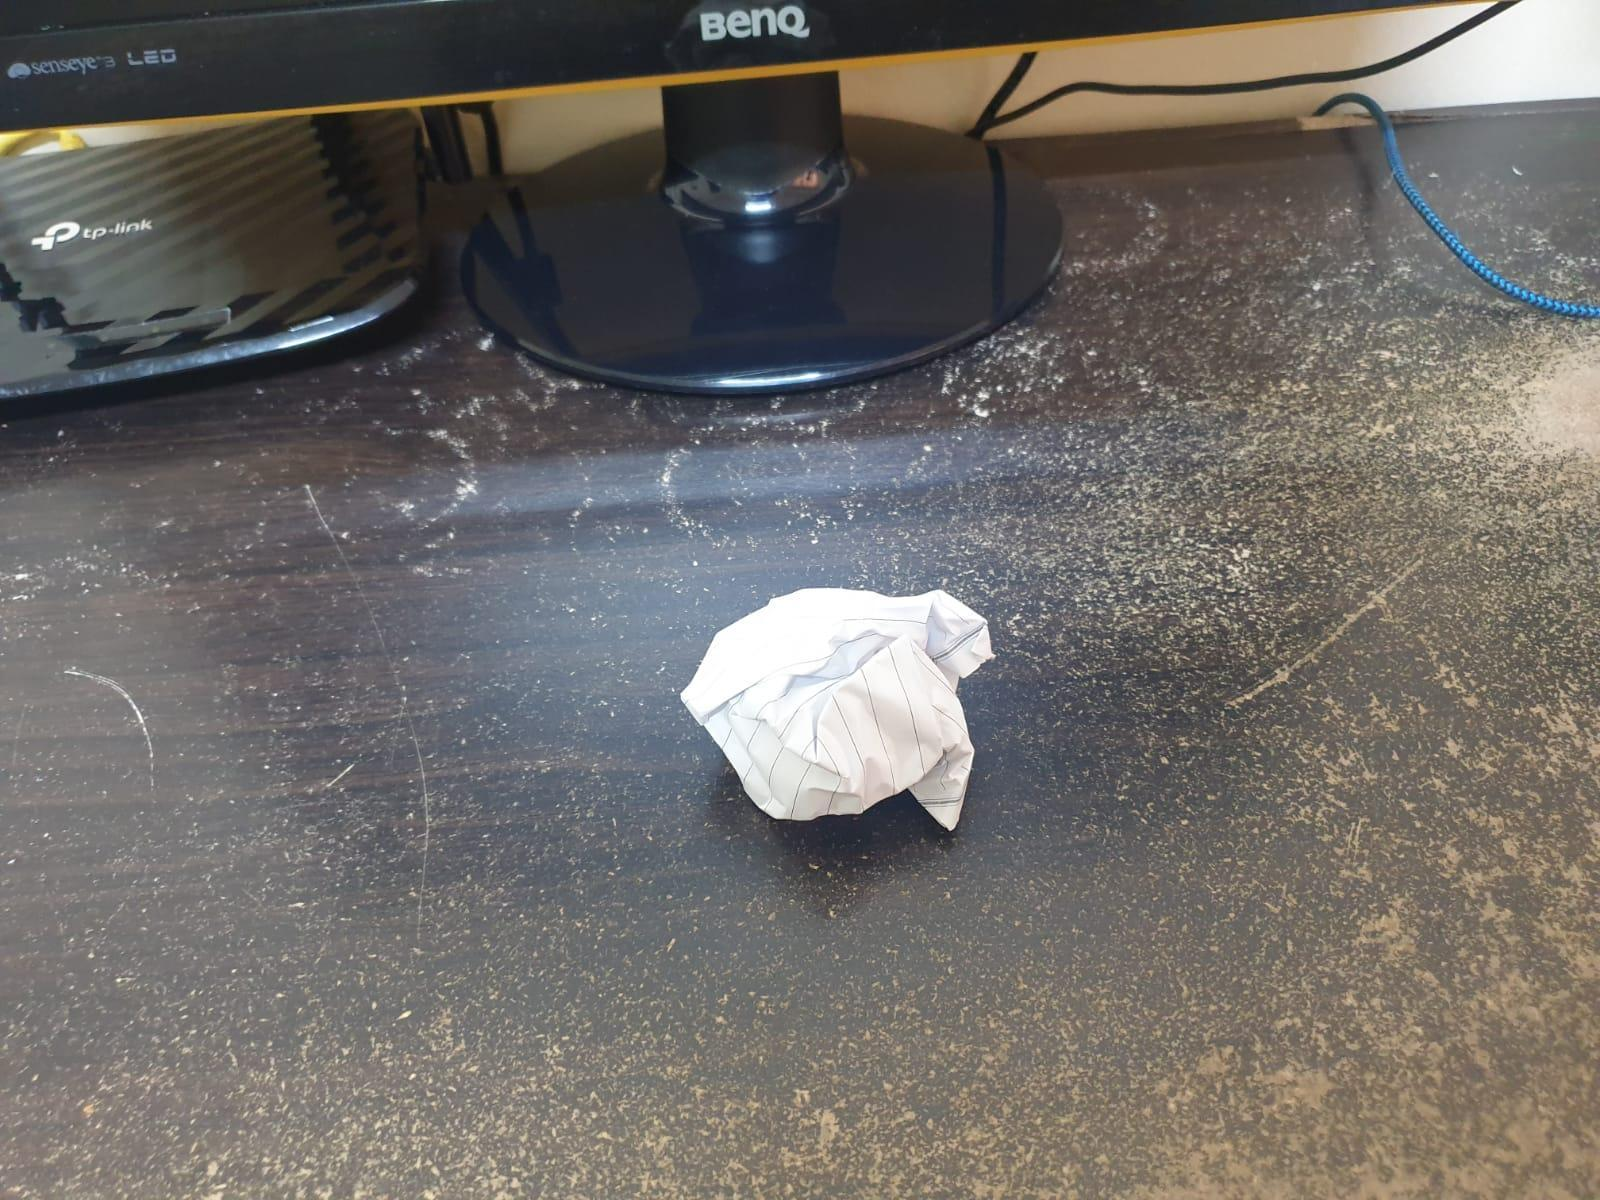Paper: (681, 576, 1001, 825)
